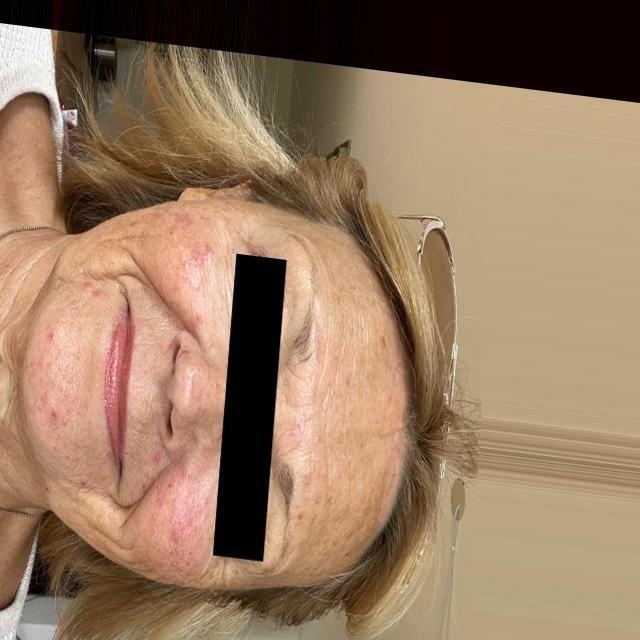Rosacea: (34, 269, 106, 455), (158, 204, 228, 326), (152, 461, 217, 581)
